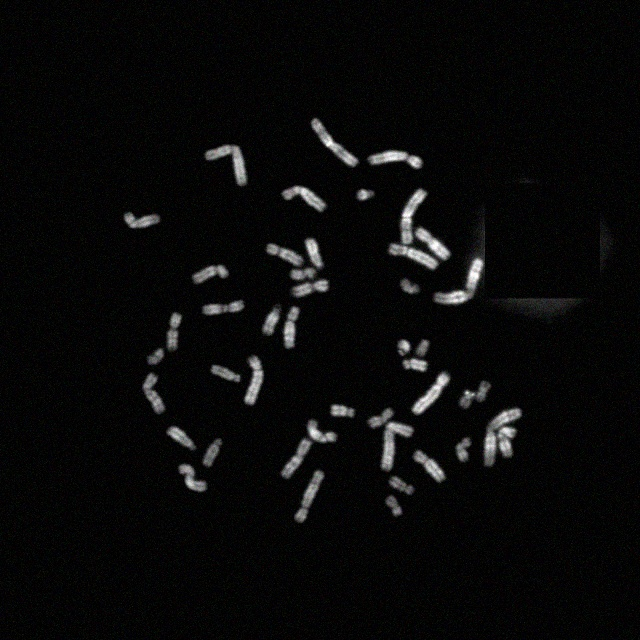chromosome: (436, 257, 484, 305), (484, 408, 522, 468), (312, 119, 358, 168), (204, 144, 248, 186), (400, 188, 428, 245), (411, 372, 449, 414), (295, 470, 325, 522), (381, 423, 413, 471), (387, 243, 439, 270), (281, 438, 311, 479), (282, 185, 326, 212), (414, 227, 450, 260), (244, 354, 264, 406), (413, 450, 445, 482), (142, 372, 166, 413), (368, 150, 422, 168), (266, 244, 304, 266), (178, 464, 207, 492), (167, 425, 196, 451), (192, 264, 228, 284), (284, 305, 300, 349), (308, 419, 336, 443), (293, 279, 329, 297), (497, 426, 517, 458), (167, 314, 183, 351), (306, 238, 324, 270), (202, 300, 243, 314), (203, 438, 222, 467), (124, 212, 158, 228), (263, 304, 281, 334), (367, 408, 393, 428), (211, 365, 239, 383), (390, 476, 414, 494), (456, 436, 472, 462), (402, 358, 428, 372), (476, 381, 492, 402), (331, 404, 355, 418), (401, 278, 421, 294), (386, 496, 402, 516), (460, 389, 476, 408), (416, 338, 429, 358), (290, 269, 316, 279), (356, 188, 376, 200), (148, 350, 165, 364), (398, 339, 410, 357)
